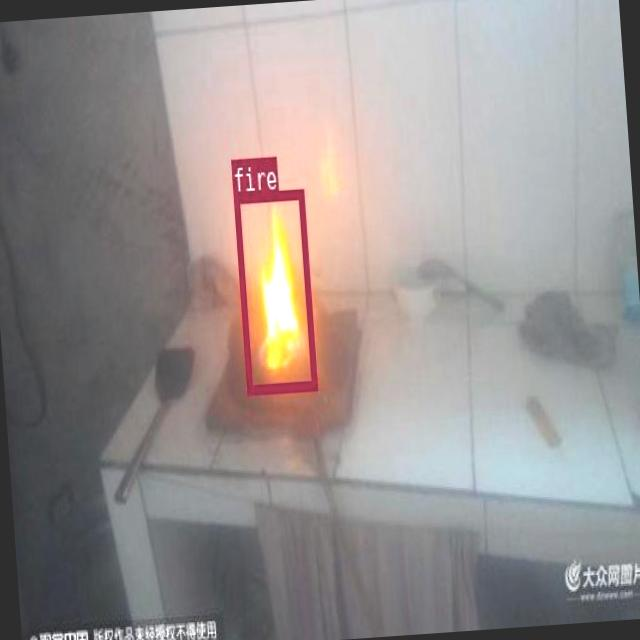fire: (233, 188, 316, 392)
